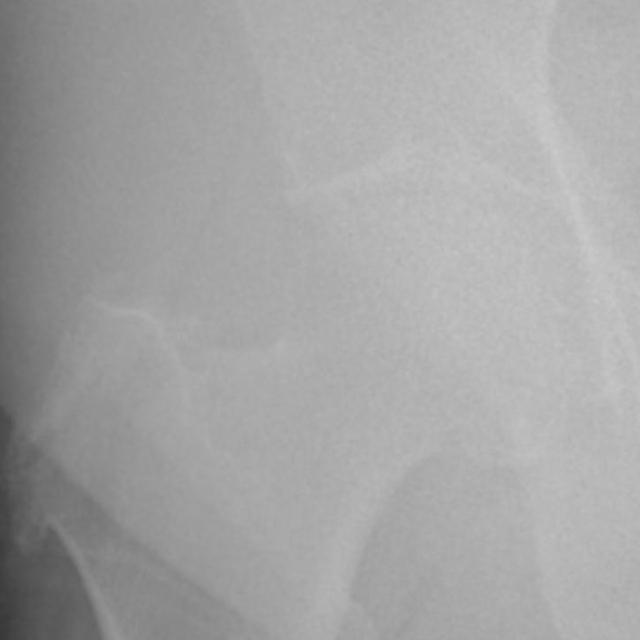Fitted_femural_head: (293, 189, 432, 293)
